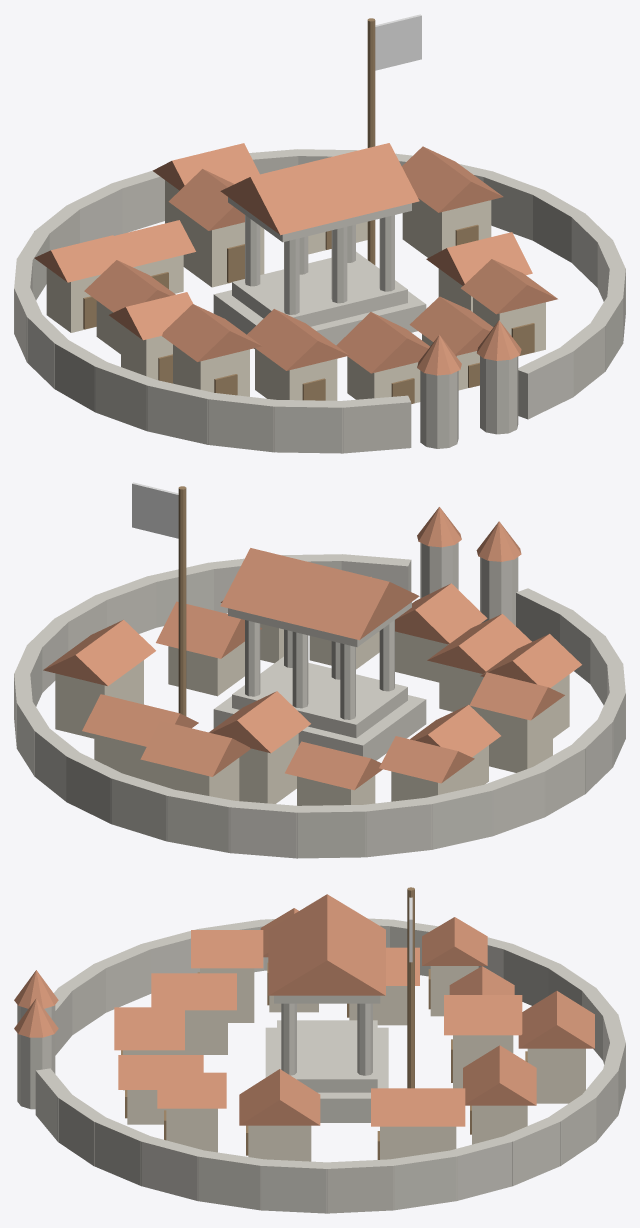
Rendered from civ_city_ancient.glb.
3 renders of one model, top to bottom at view 1: azimuth 30°, elevation 25°; view 2: azimuth 150°, elevation 25°; view 3: azimuth 270°, elevation 25°, orthographic. The views are drawn at different scales.
Visible parts, largest first — view 1: civ_city_ancient; view 2: civ_city_ancient; view 3: civ_city_ancient.
Part boxes in pixels (x1,y1,x2,y2): civ_city_ancient: (14, 14, 625, 453); civ_city_ancient: (14, 482, 625, 858); civ_city_ancient: (14, 887, 625, 1213).
Bounding box in the file's own units: 5.34 × 2.4 × 5.47.
